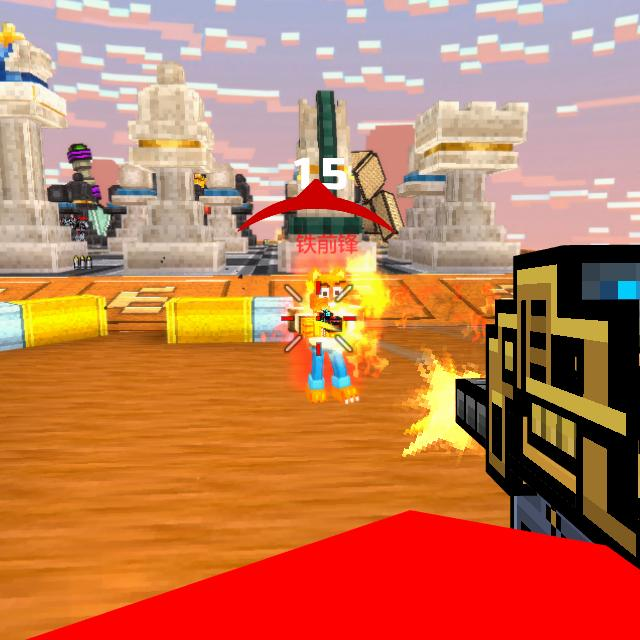Enemy: (286, 269, 362, 403)
